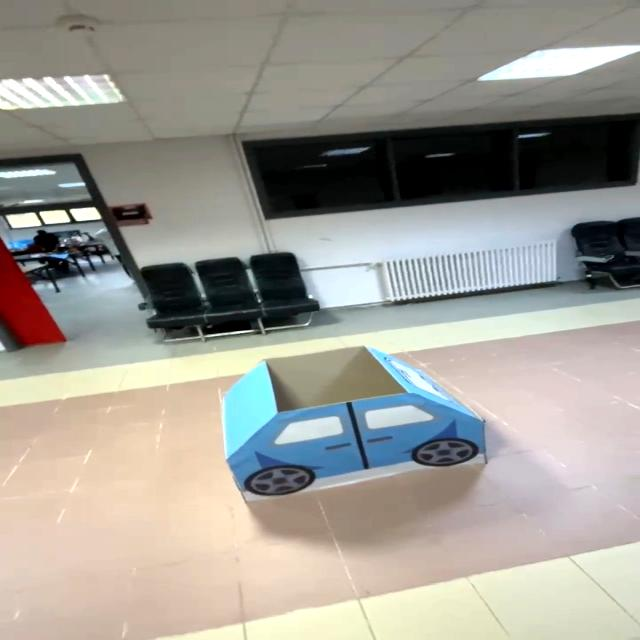blue_car: (176, 334, 529, 515)
